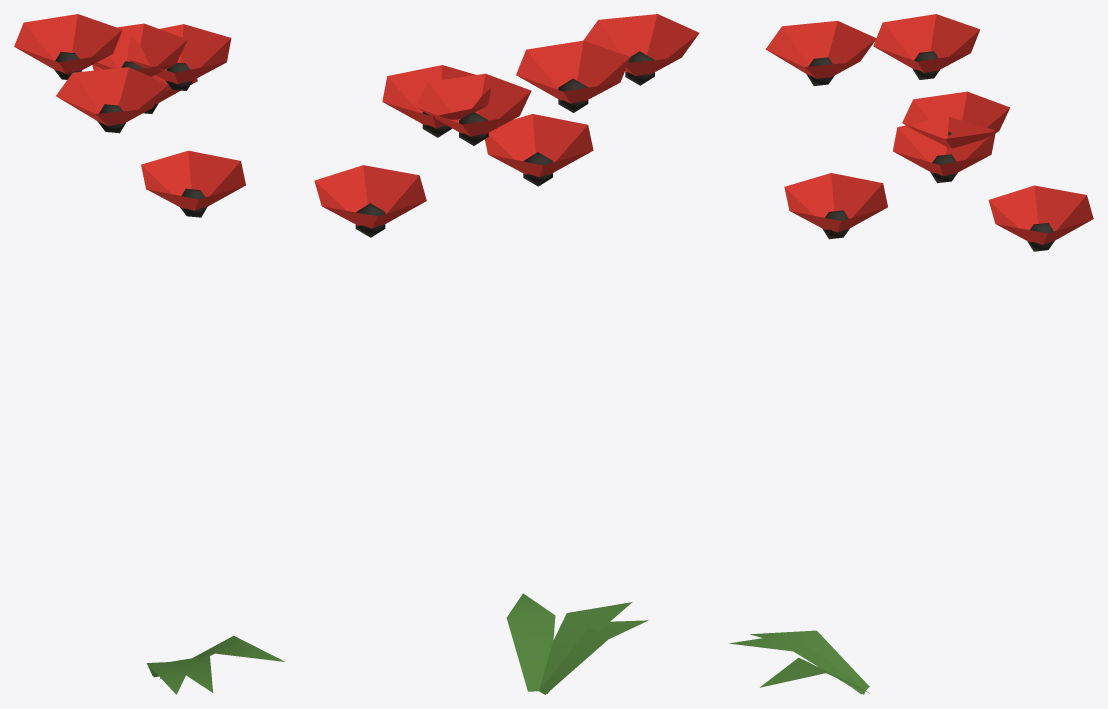
File: poppies_1_mid.glb
The picture shows the model from 3 angles, left to right: view 1: azimuth 30°, elevation 25°; view 2: azimuth 150°, elevation 25°; view 3: azimuth 270°, elevation 25°; orthographic projection. The views are drawn at different scales.
Visible parts, largest first — view 1: poppies_1_mid; view 2: poppies_1_mid; view 3: poppies_1_mid.
Boxes of the visible parts, bbox=[...] form: poppies_1_mid: bbox=[14, 14, 284, 694]; poppies_1_mid: bbox=[314, 14, 699, 694]; poppies_1_mid: bbox=[728, 14, 1093, 694].
Size of the model in its own units: 0.2695 by 0.6718 by 0.3577.
